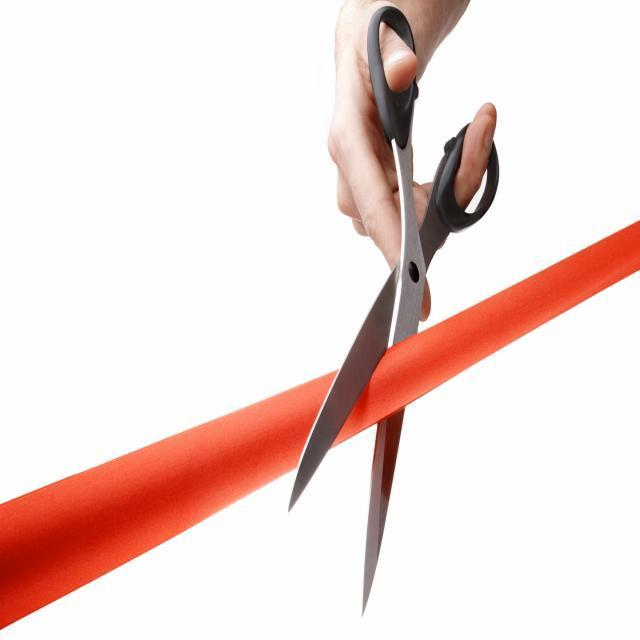scissors: (284, 1, 501, 624)
